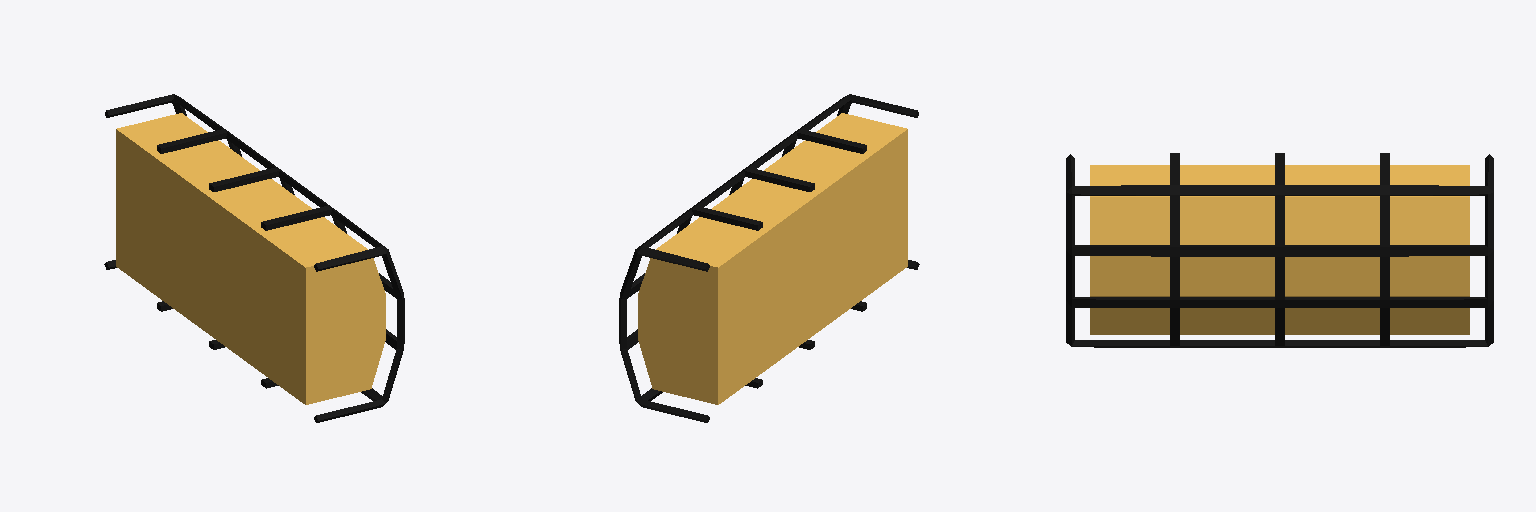
File: light.obj
The picture shows the model from 3 angles: view 1: azimuth 30°, elevation 25°; view 2: azimuth 150°, elevation 25°; view 3: azimuth 270°, elevation 25°; orthographic projection.
Parts seen in each view (by area): view 1: Lamp_06.001_Mesh.046, Lamp_06_Mesh.040; view 2: Lamp_06.001_Mesh.046, Lamp_06_Mesh.040; view 3: Lamp_06.001_Mesh.046, Lamp_06_Mesh.040.
Part boxes in pixels (bbox=[...]): Lamp_06.001_Mesh.046: bbox=[116, 113, 385, 404]; Lamp_06_Mesh.040: bbox=[104, 94, 404, 422]; Lamp_06.001_Mesh.046: bbox=[638, 113, 907, 404]; Lamp_06_Mesh.040: bbox=[619, 94, 919, 422]; Lamp_06.001_Mesh.046: bbox=[1090, 165, 1469, 334]; Lamp_06_Mesh.040: bbox=[1066, 153, 1493, 347].
Size of the model in its own units: 0.0345 by 0.0593 by 0.1411.